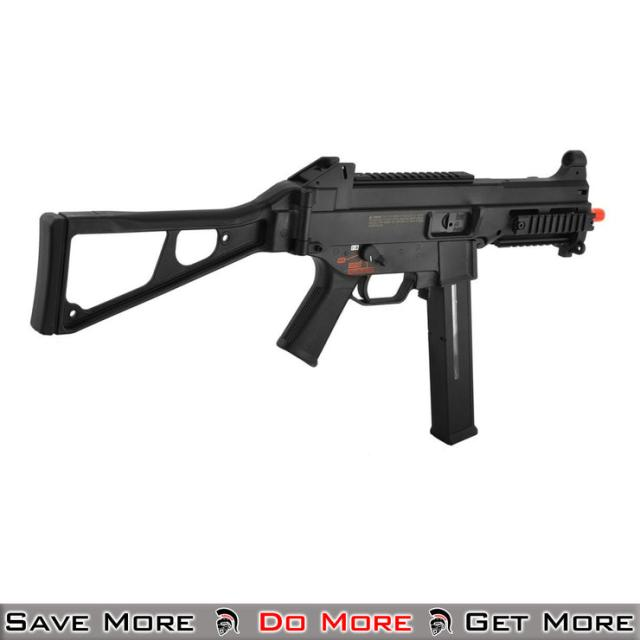Gun: (20, 103, 616, 457)
